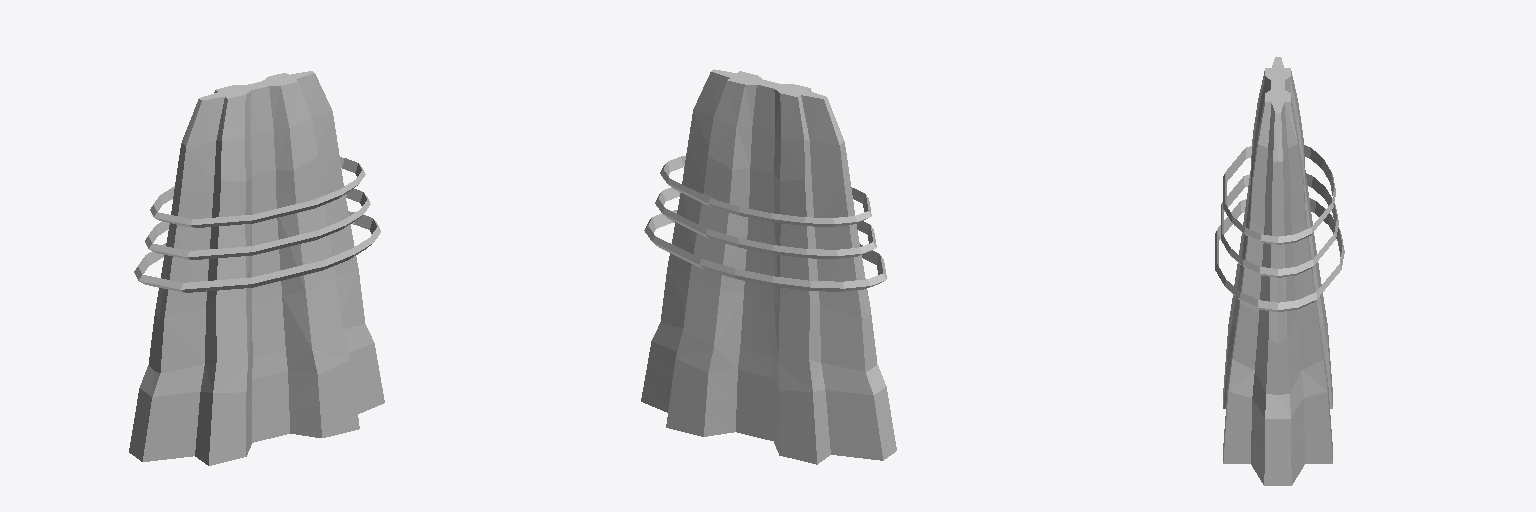
The model's file is RingTower1.obj.
The picture shows the model from 3 angles: view 1: azimuth 30°, elevation 25°; view 2: azimuth 150°, elevation 25°; view 3: azimuth 270°, elevation 25°; orthographic projection.
Visible parts, largest first — view 1: polySurface6; view 2: polySurface6; view 3: polySurface6.
Part boxes in pixels (x1,y1,x2,y2): polySurface6: (129, 71, 384, 465); polySurface6: (641, 69, 896, 464); polySurface6: (1215, 57, 1344, 485).
Size of the model in its own units: 134 by 180 by 61.85.